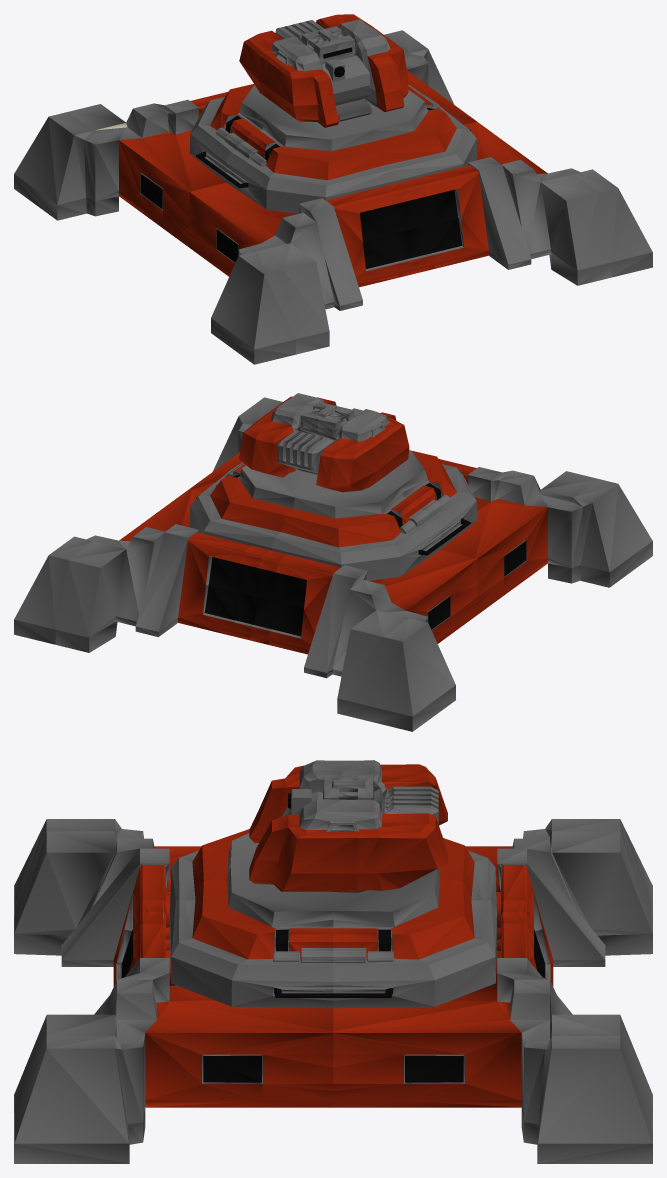
Rendered from building - enemy gun emplacement.glb.
3 views of the same model, one above another, from view 1: azimuth 30°, elevation 25°; view 2: azimuth 150°, elevation 25°; view 3: azimuth 270°, elevation 25° (orthographic). The views are drawn at different scales.
Visible parts, largest first — view 1: base, turret, barrel holder; view 2: base, turret; view 3: base, turret, barrel holder.
Boxes of the visible parts, bbox=[...] form: base: bbox=[14, 30, 652, 364]; turret: bbox=[239, 14, 408, 127]; barrel holder: bbox=[321, 54, 369, 105]; base: bbox=[14, 397, 652, 731]; turret: bbox=[239, 393, 409, 492]; base: bbox=[14, 819, 652, 1163]; turret: bbox=[249, 760, 447, 892]; barrel holder: bbox=[288, 789, 322, 814].
Bounding box in the file's own units: 7.75 × 3.53 × 8.1.
